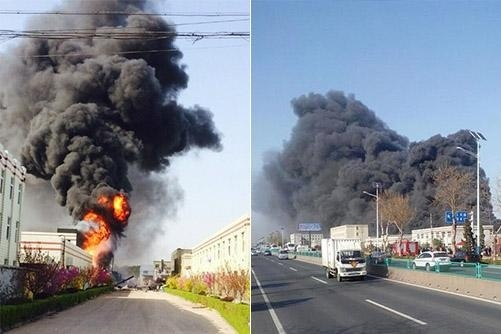fire: (80, 191, 128, 259)
